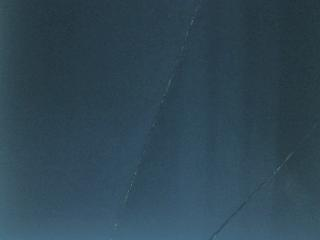crack: (109, 0, 204, 240), (209, 120, 320, 240)
